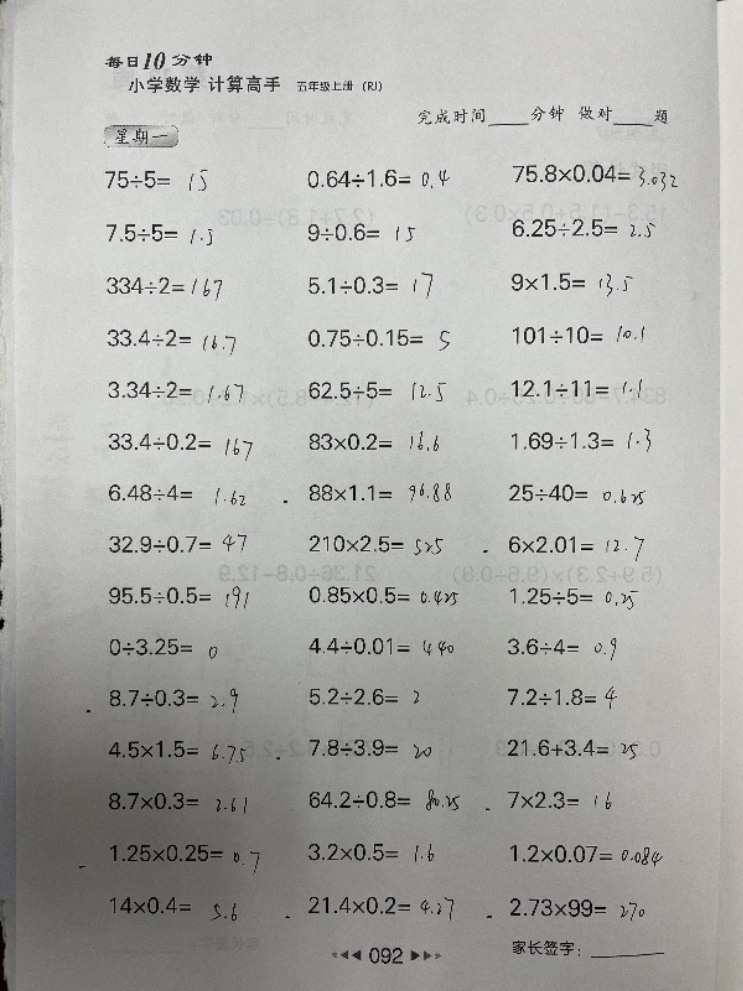equation: (506, 154, 685, 201), (300, 155, 453, 203), (99, 426, 261, 471), (106, 840, 266, 883), (305, 782, 466, 824), (504, 836, 665, 878), (106, 681, 256, 726), (504, 474, 656, 518), (500, 727, 646, 772), (505, 422, 664, 462), (300, 628, 464, 666), (301, 887, 461, 925), (503, 529, 650, 570), (508, 212, 659, 251), (103, 323, 243, 365), (506, 368, 649, 408), (303, 322, 457, 359), (303, 578, 467, 612), (99, 155, 215, 203), (506, 581, 644, 621), (303, 265, 437, 306), (505, 891, 653, 928), (99, 478, 254, 513), (103, 578, 258, 613), (506, 261, 638, 302), (100, 377, 248, 413), (98, 789, 253, 823), (510, 316, 660, 351), (306, 478, 459, 512), (303, 836, 446, 872), (302, 374, 448, 409), (303, 426, 453, 460), (99, 216, 220, 258), (497, 627, 628, 665), (100, 893, 246, 927), (98, 269, 230, 306), (305, 733, 445, 767), (504, 784, 620, 824), (100, 529, 253, 559), (305, 530, 447, 561), (103, 633, 225, 669), (303, 681, 435, 714), (105, 740, 253, 767), (300, 218, 421, 251), (503, 684, 622, 711)
